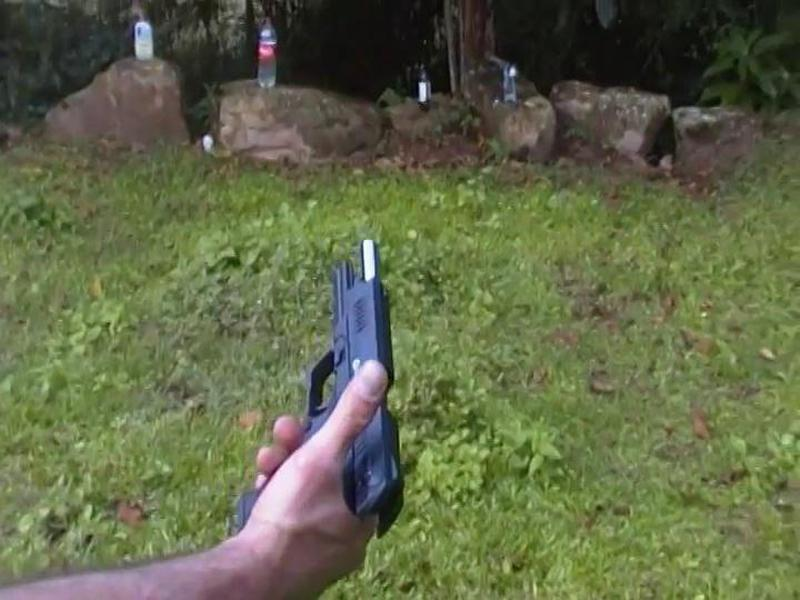Pistola: (247, 235, 423, 535)
